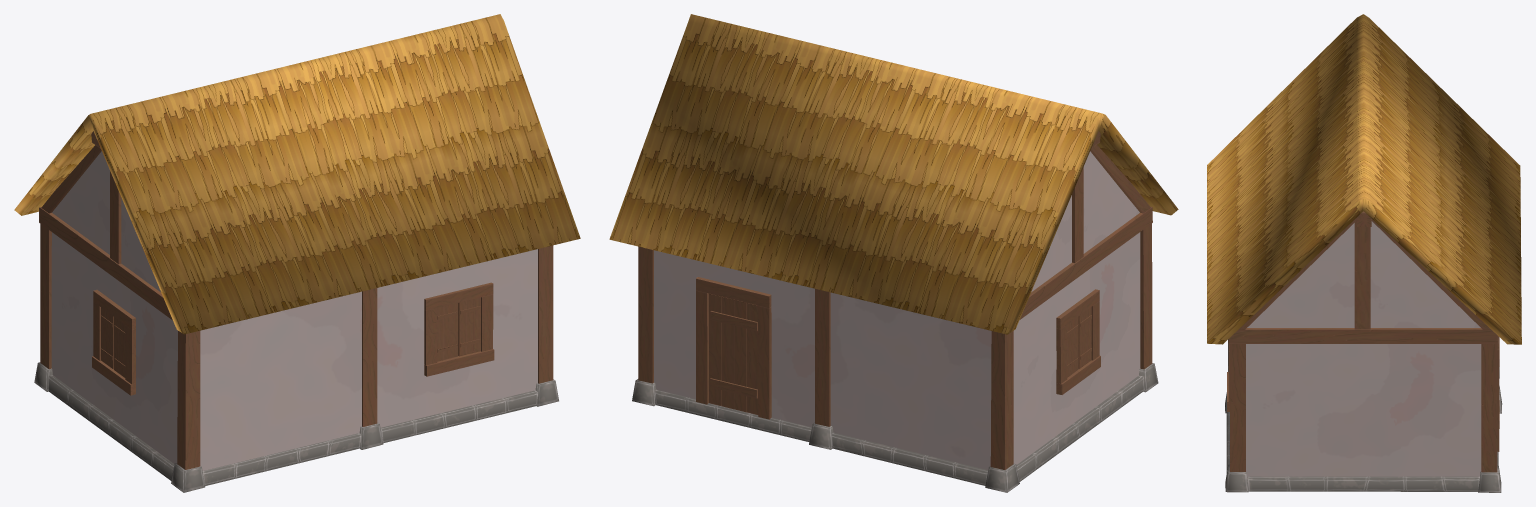
File: stylized_medieval_house_1_2048.fbx
The picture shows the model from 3 angles, left to right: view 1: azimuth 30°, elevation 25°; view 2: azimuth 150°, elevation 25°; view 3: azimuth 270°, elevation 25°; orthographic projection. The views are drawn at different scales.
Parts seen in each view (by area): view 1: stylized_house; view 2: stylized_house; view 3: stylized_house.
Boxes of the visible parts, x1,y1,x2,y2 form: stylized_house: [14, 14, 580, 492]; stylized_house: [609, 14, 1178, 492]; stylized_house: [1207, 14, 1521, 492].
Size of the model in its own units: 2.18 by 1.67 by 1.58.
1 material, 1 textured.
